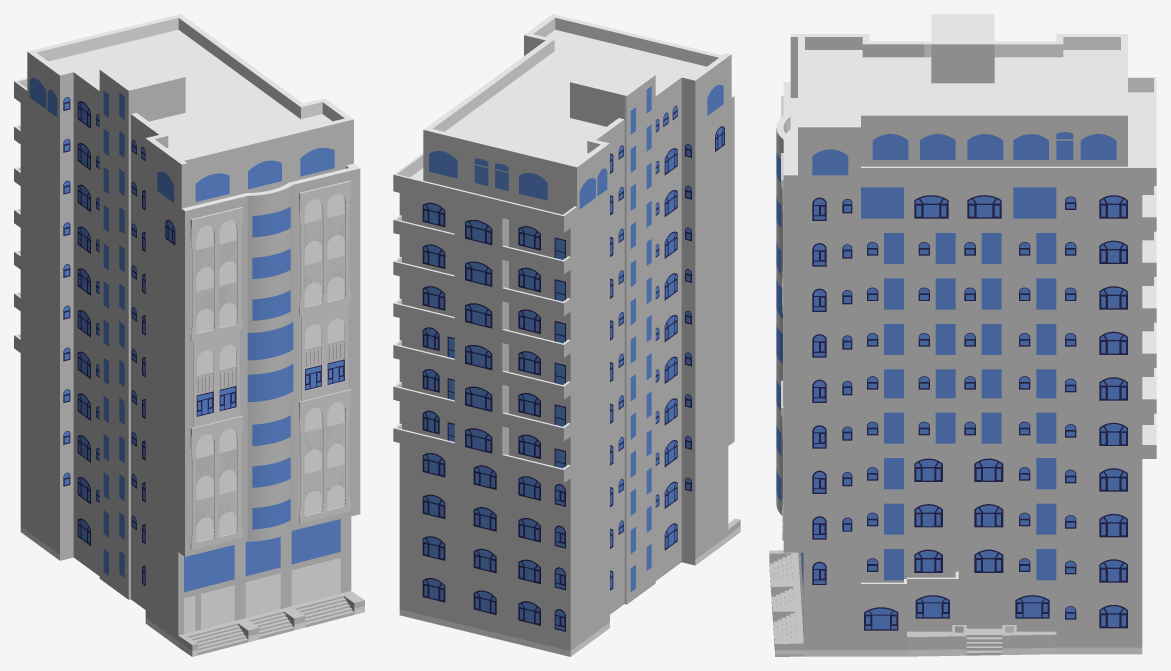
The picture shows the model from 3 angles, left to right: view 1: azimuth 30°, elevation 25°; view 2: azimuth 150°, elevation 25°; view 3: azimuth 270°, elevation 25°; orthographic projection. The views are drawn at different scales.
Visible parts, largest first — view 1: Group_001, Group_003, Group_004; view 2: Group_001; view 3: Group_001, Group_003.
Boxes of the visible parts, left/top/right/bottom form: Group_001: left=14, top=14, right=364, bottom=656; Group_003: left=299, top=180, right=351, bottom=523; Group_004: left=190, top=207, right=242, bottom=549; Group_001: left=393, top=14, right=740, bottom=656; Group_001: left=769, top=14, right=1156, bottom=656; Group_003: left=781, top=153, right=783, bottom=540.
Bounding box in the file's own units: 15453 × 42700 × 26999.
